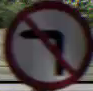Don't turn left: (8, 9, 79, 77)
